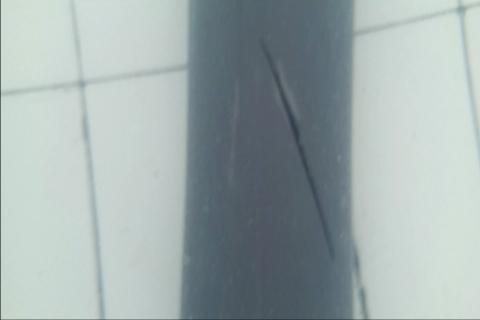keretakan: (258, 36, 336, 264)
